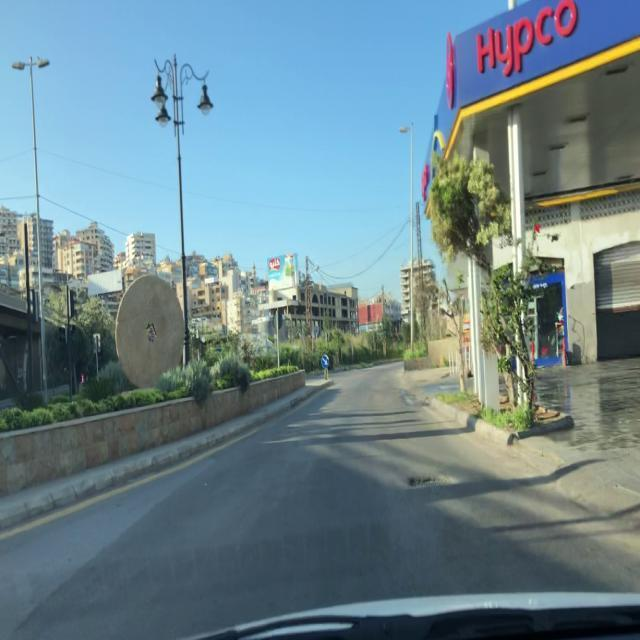Buraco: (404, 472, 459, 490)
